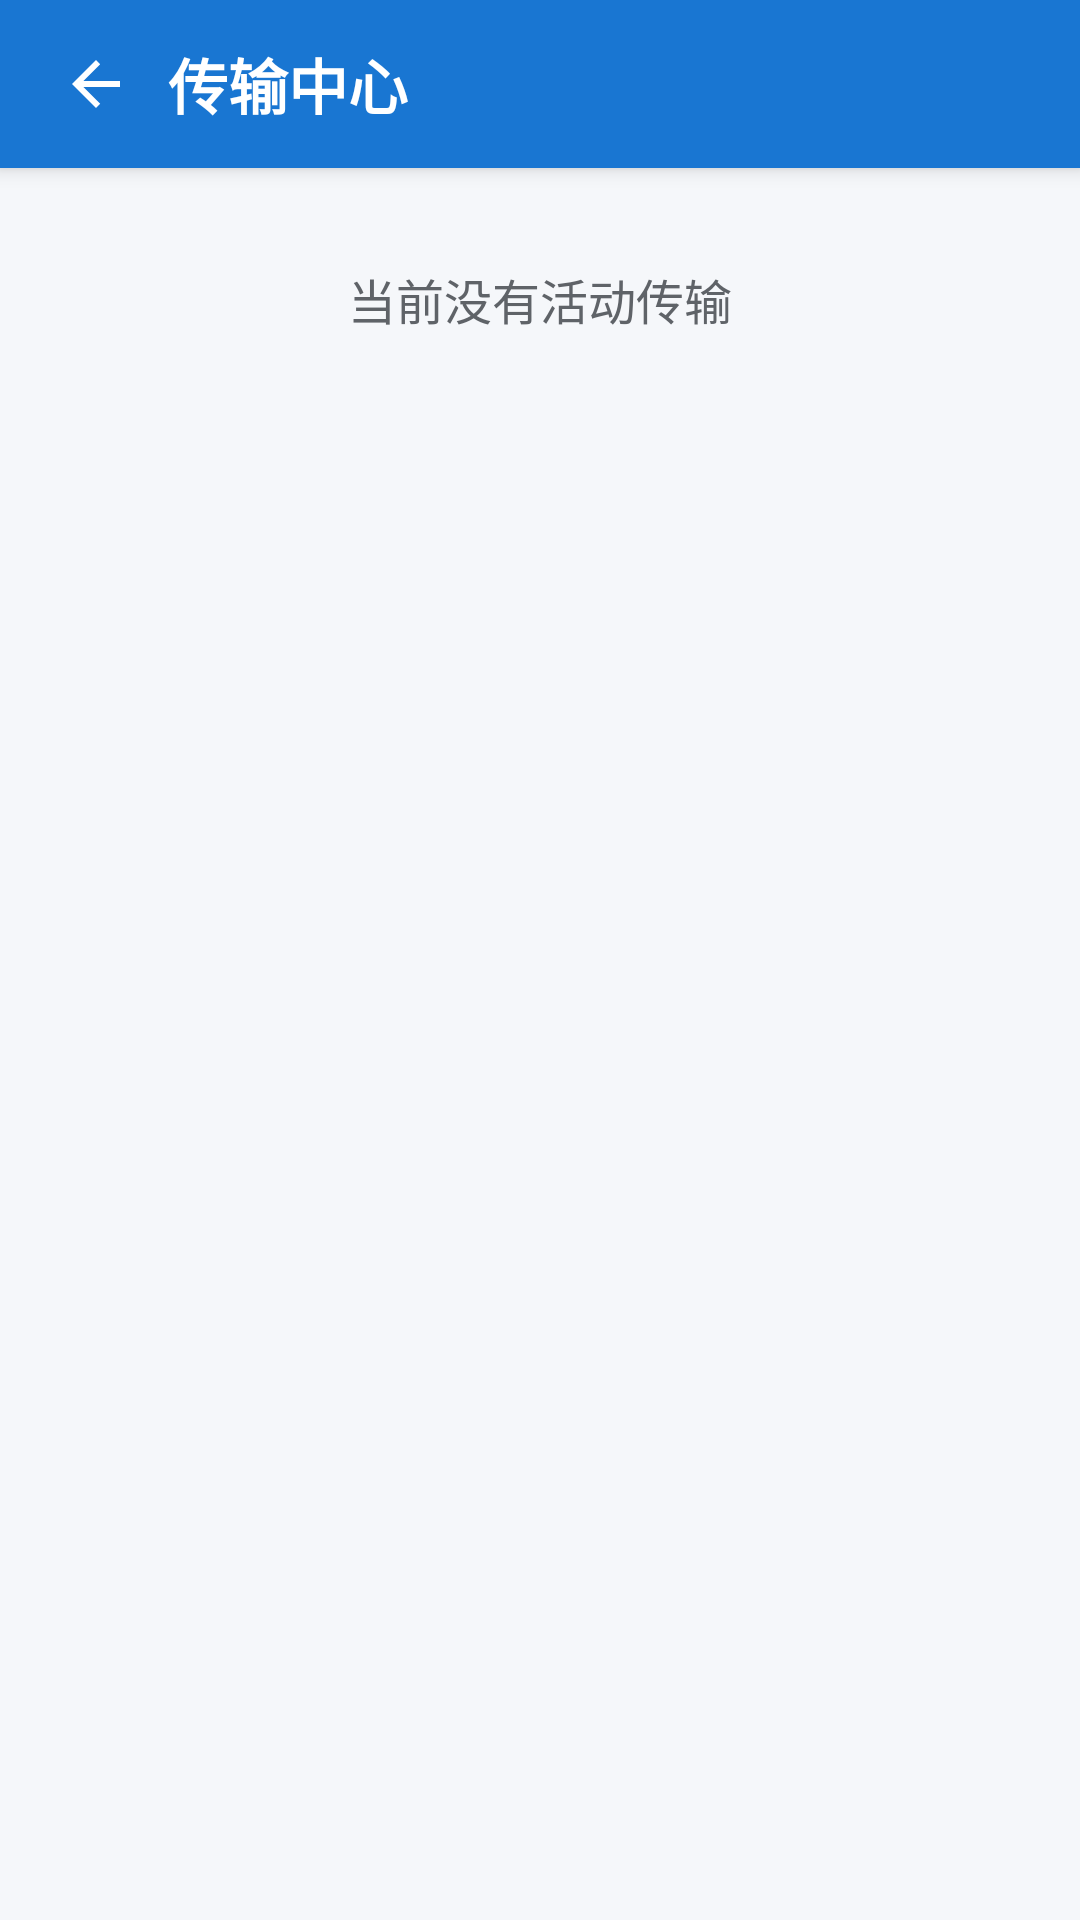

Screen size 1080*1920. Icon name, then its center in pixels as [x,y]:
返回: [96,84]
